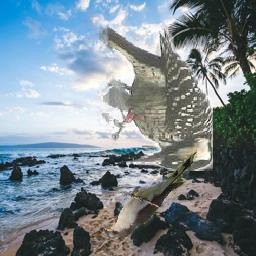Cuckoo: (103, 149, 197, 237)
Woodpecker: (97, 25, 213, 171)
